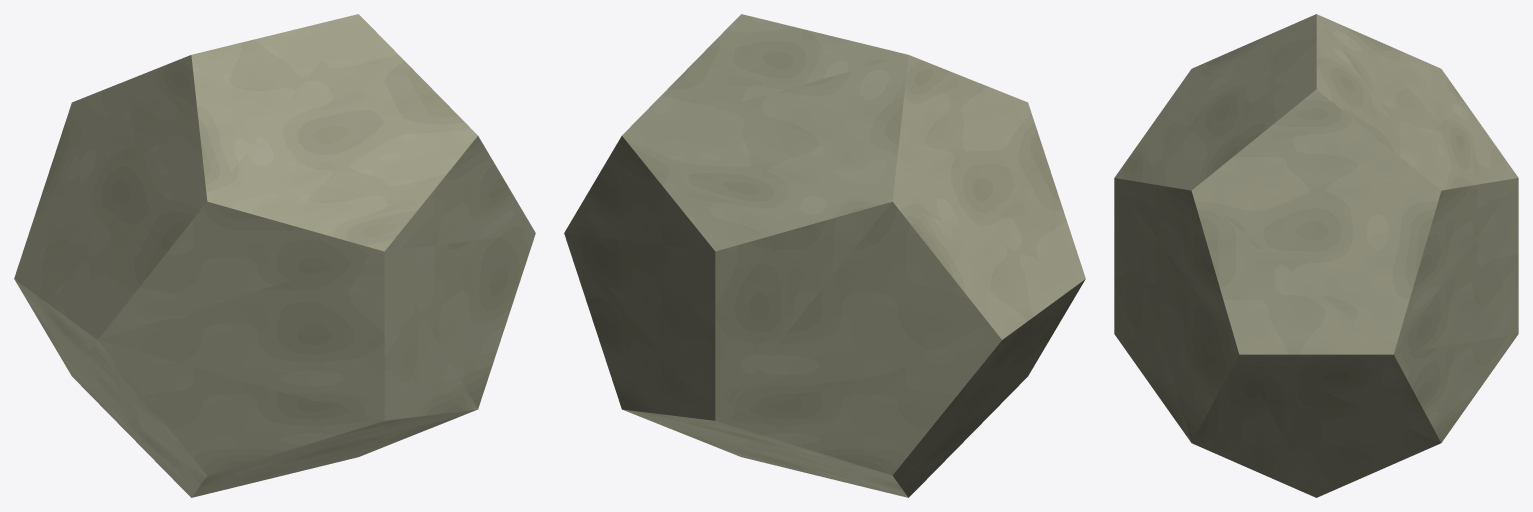
Rendered from pedra-bloco-v02.gltf.
3 views of the same model, side by side, from view 1: azimuth 30°, elevation 25°; view 2: azimuth 150°, elevation 25°; view 3: azimuth 270°, elevation 25° (orthographic). The views are drawn at different scales.
Parts seen in each view (by area): view 1: forma; view 2: forma; view 3: forma.
Boxes of the visible parts, x1,y1,x2,y2 form: forma: (14,14,535,497); forma: (564,14,1085,497); forma: (1114,14,1518,497).
Bounding box in the file's own units: 1.12 × 1.08 × 0.9715.
Materials: 1 (1 with a texture image).
